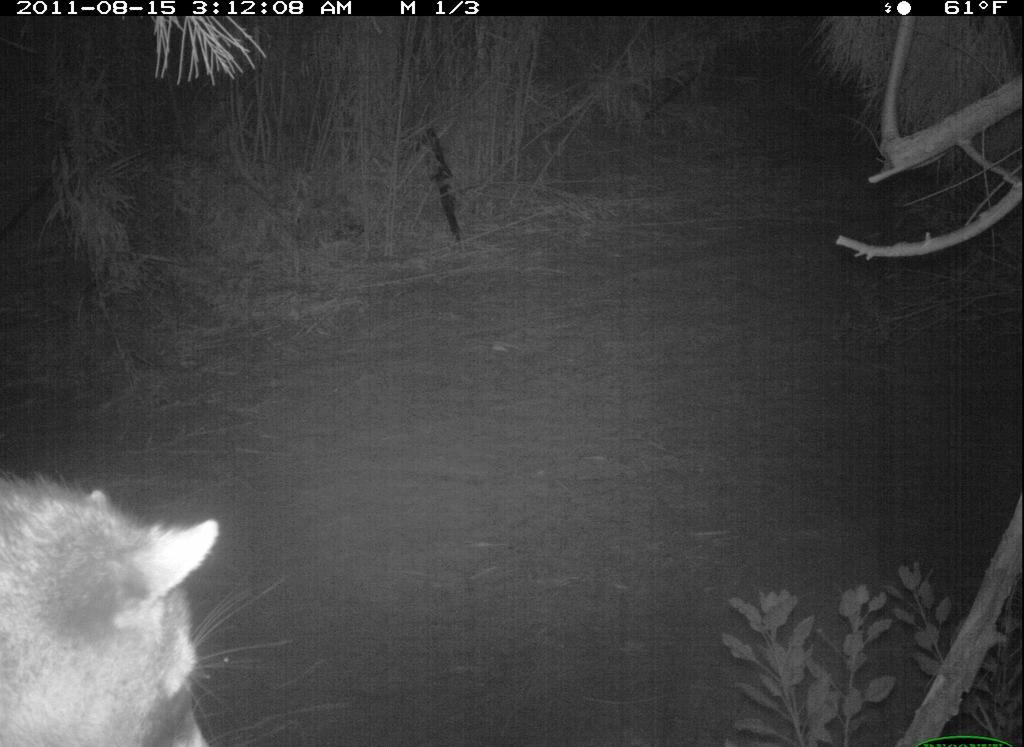raccoon: (4, 445, 235, 747)
